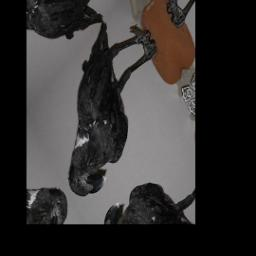Crow: (29, 0, 183, 214)
